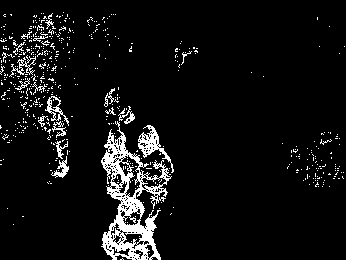person: (40, 93, 76, 181), (103, 129, 142, 202), (142, 129, 178, 205)
